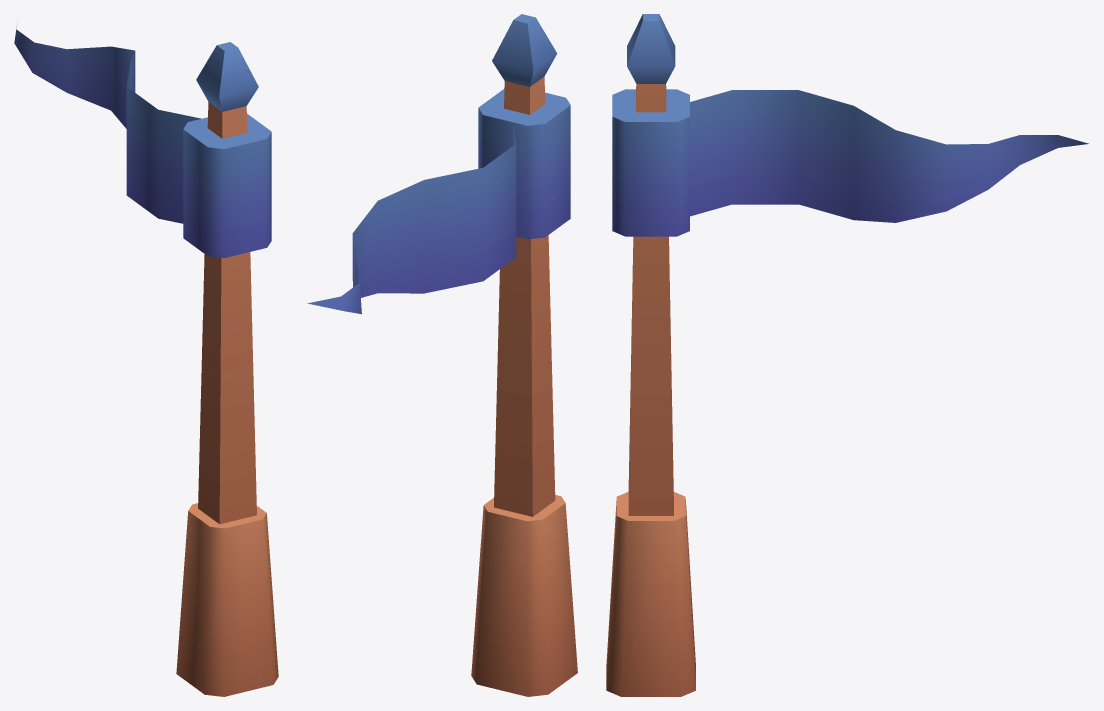
Rendered from flag-pennant.glb.
The picture shows the model from 3 angles, left to right: view 1: azimuth 30°, elevation 25°; view 2: azimuth 150°, elevation 25°; view 3: azimuth 270°, elevation 25°; orthographic projection. The views are drawn at different scales.
Parts seen in each view (by area): view 1: flag-pennant; view 2: flag-pennant; view 3: flag-pennant.
Part boxes in pixels (x1,y1,x2,y2): flag-pennant: (14, 22, 278, 696); flag-pennant: (307, 14, 577, 696); flag-pennant: (606, 14, 1088, 696).
Bounding box in the file's own units: 0.1064 × 0.8656 × 0.5738.
1 material, 1 textured.
